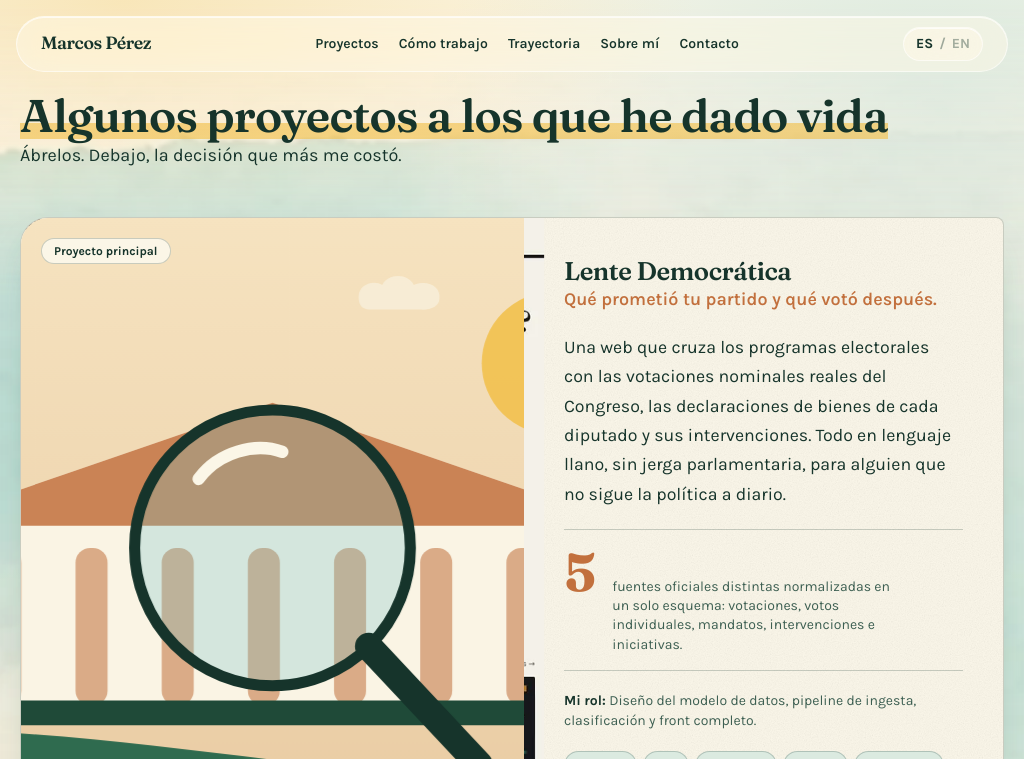
Test: navegación e idioma › cambia todo el contenido al pulsar el conmutador de idioma
expect the heading "Algunos proyectos a los que he dado vida" is shown: met, box top-left (20, 87), bottom-right (888, 144)
Click the button with aria-label "cambiar idioma". click: [943, 44]
box: top-left (903, 27), bottom-right (983, 61)
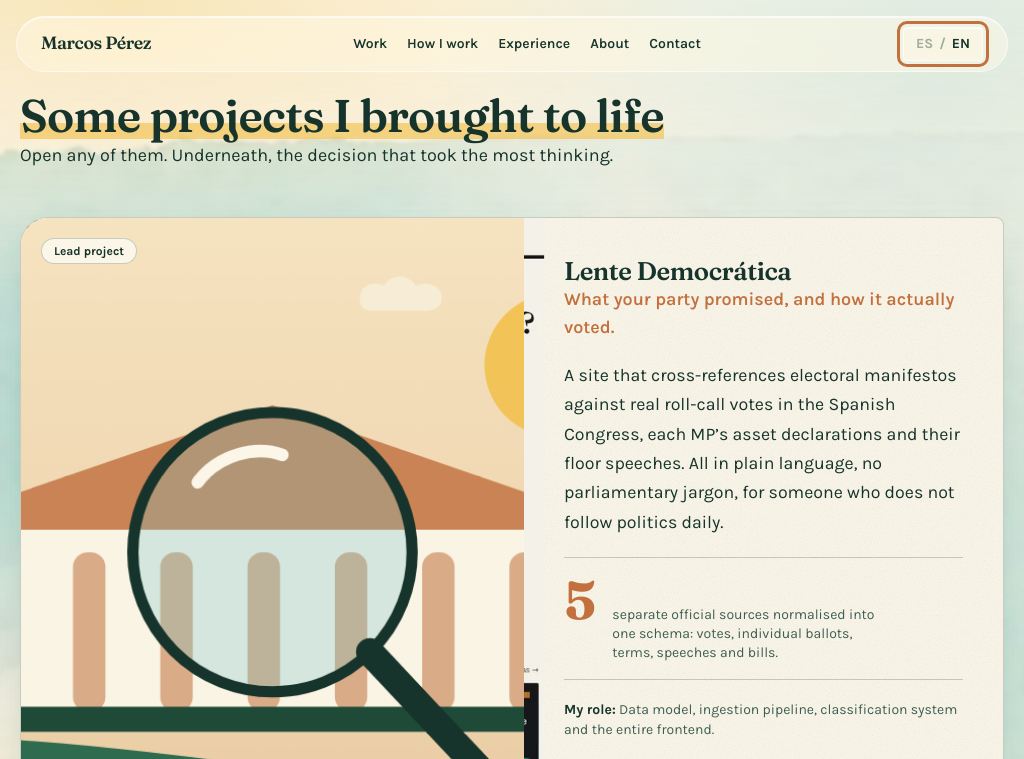
expect the heading "Some projects I brought to life" is shown: met, box top-left (20, 87), bottom-right (664, 144)
